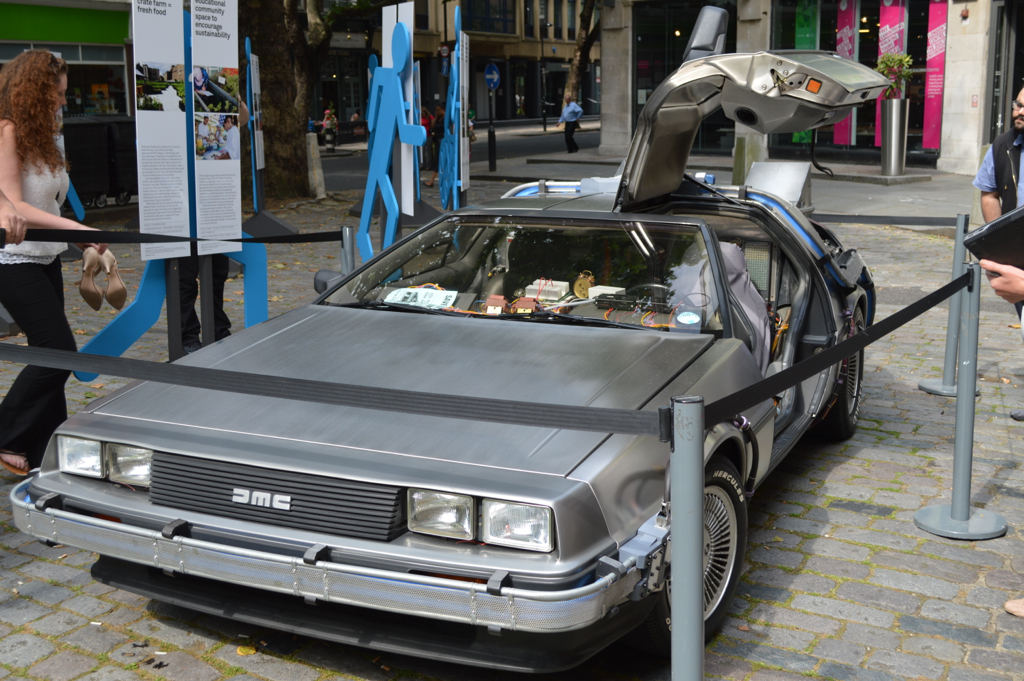Person: (0, 48, 110, 471), (979, 84, 1024, 333), (556, 95, 582, 150), (317, 106, 336, 146)
